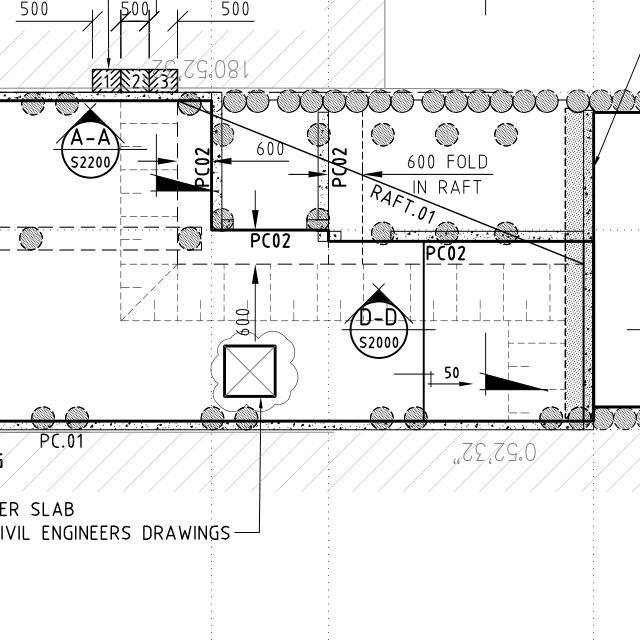PC-01: (34, 429, 96, 455)
PC02: (323, 141, 354, 196), (416, 238, 471, 266), (185, 137, 214, 189), (246, 227, 296, 252)
